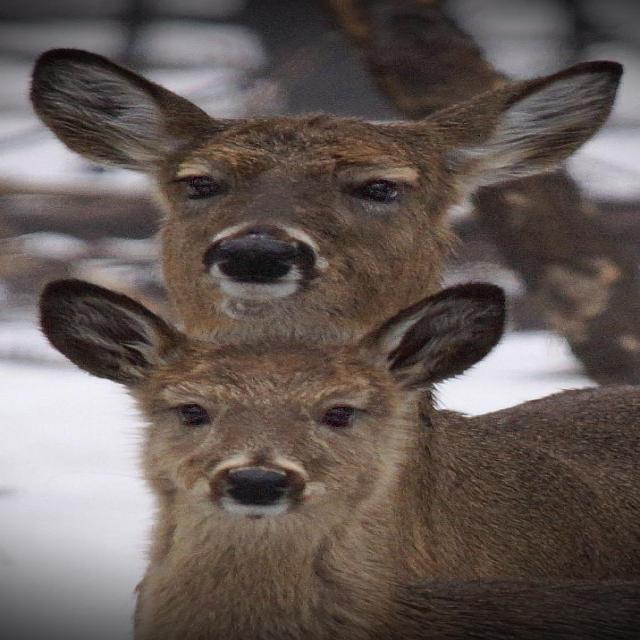Deer: (38, 279, 639, 640), (30, 47, 624, 344)
